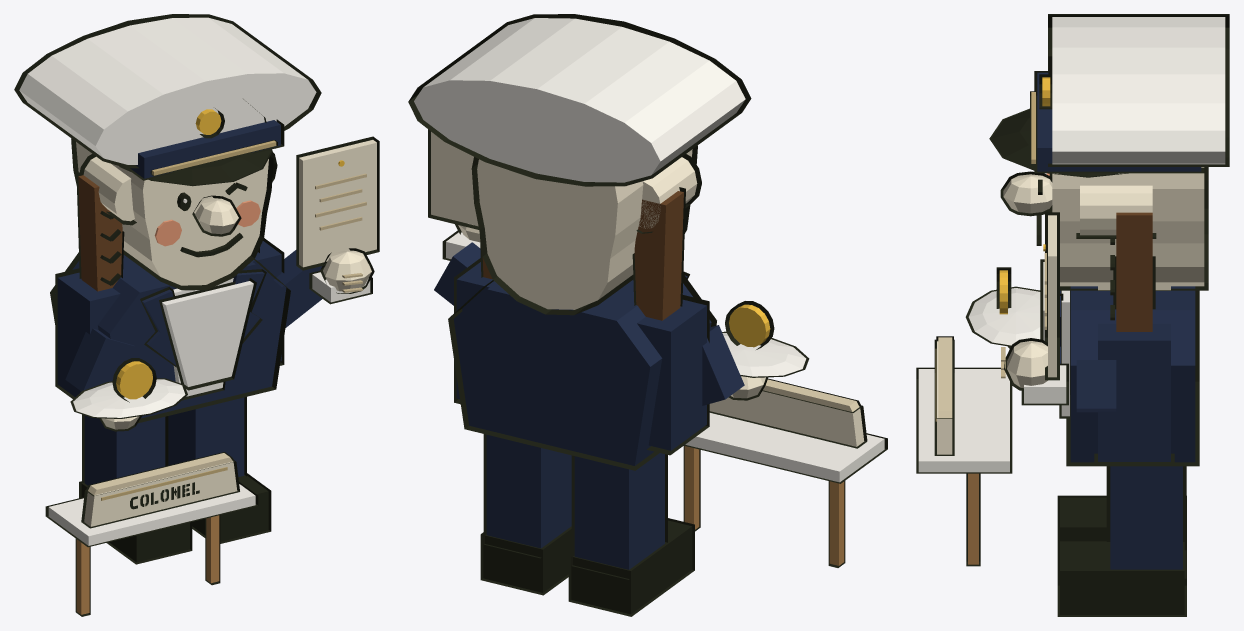
The picture shows the model from 3 angles, left to right: view 1: azimuth 30°, elevation 25°; view 2: azimuth 150°, elevation 25°; view 3: azimuth 270°, elevation 25°; orthographic projection. The views are drawn at different scales.
Parts seen in each view (by area): view 1: Link Marine; view 2: Link Marine; view 3: Link Marine.
Boxes of the visible parts, x1,y1,x2,y2 form: Link Marine: [14, 14, 379, 616]; Link Marine: [408, 14, 887, 616]; Link Marine: [916, 14, 1229, 616].
Bounding box in the file's own units: 0.7519 × 0.9729 × 0.5155.
